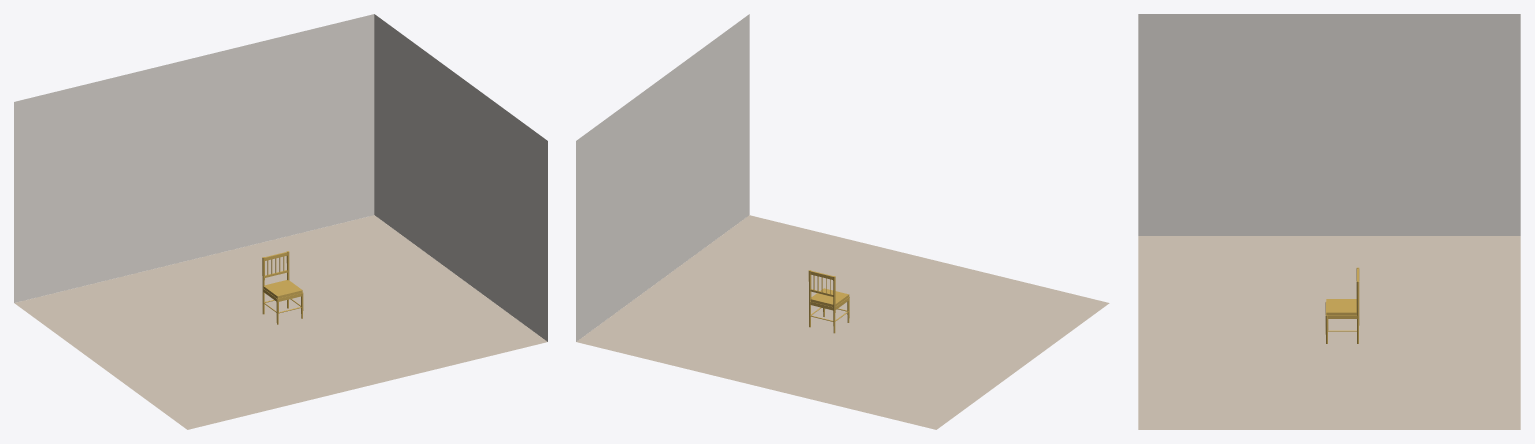
The model's file is silla-tiffany.glb.
3 views of the same model, side by side, from view 1: azimuth 30°, elevation 25°; view 2: azimuth 150°, elevation 25°; view 3: azimuth 270°, elevation 25° (orthographic). The views are drawn at different scales.
Parts seen in each view (by area): view 1: sala, decoracion; view 2: sala, decoracion; view 3: sala, decoracion.
Boxes of the visible parts, <box> form: sala: <box>14,14,547,429</box>; decoracion: <box>262,251,303,324</box>; sala: <box>576,14,1109,429</box>; decoracion: <box>808,270,849,333</box>; sala: <box>1138,14,1520,429</box>; decoracion: <box>1325,267,1359,343</box>.
Size of the model in its own units: 6 by 3.2 by 5.
